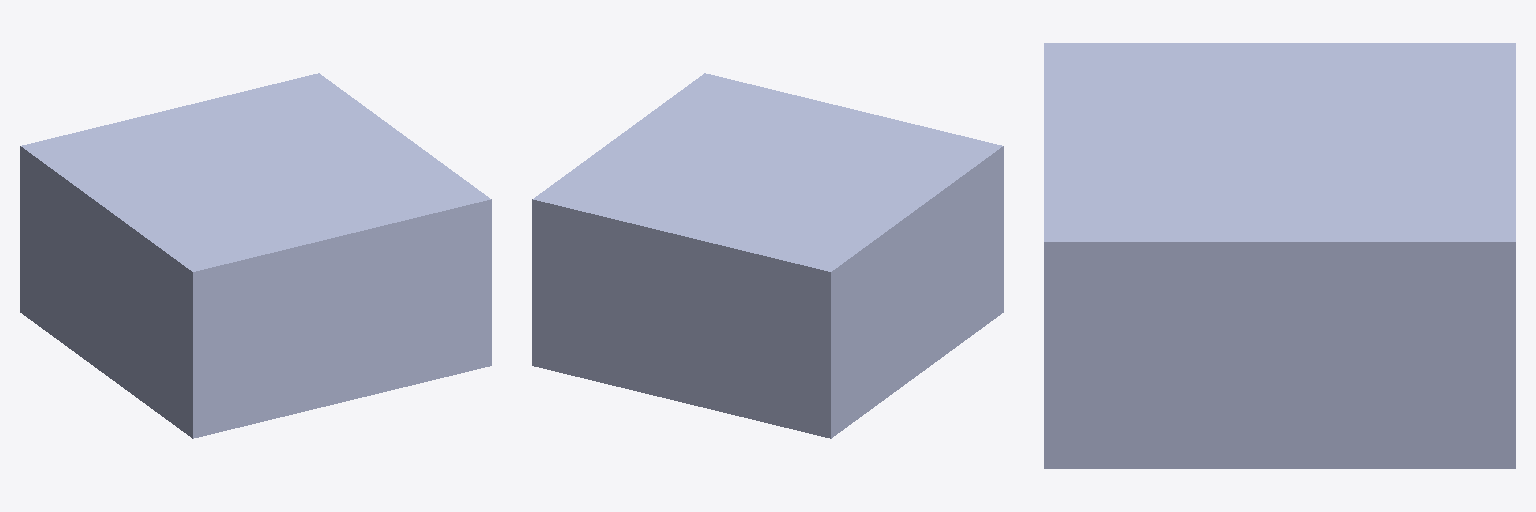
URDF robot description (FlameWheel_F450_block):
<?xml version="1.0" encoding="utf-8"?>
<!-- This URDF was automatically created by SolidWorks to URDF Exporter! Originally created by [author] ([email redacted]) 
     Commit Version: 1.5.1-0-g916b5db  Build Version: 1.5.7152.31018
     For more information, please see http://wiki.ros.org/sw_urdf_exporter -->
<robot
  name="FlameWheel_F450_block">
  <link
    name="base_link">
    <inertial>
      <origin
        xyz="6.3557E-19 -2.7105E-20 0"
        rpy="0 0 0" />
      <mass
        value="1.44E-05" />
      <inertia
        ixx="1.3872E-11"
        ixy="-4.7222E-28"
        ixz="-2.4678E-43"
        iyy="1.3872E-11"
        iyz="-3.9464E-44"
        izz="2.16E-11" />
    </inertial>
    <visual>
      <origin
        xyz="0 0 0"
        rpy="0 0 0" />
      <geometry>
        <mesh
          filename="package://FlameWheel_F450_block/meshes/base_link.STL" />
      </geometry>
      <material
        name="">
        <color
          rgba="0.79216 0.81961 0.93333 1" />
      </material>
    </visual>
    <collision>
      <origin
        xyz="0 0 0"
        rpy="0 0 0" />
      <geometry>
        <mesh
          filename="package://FlameWheel_F450_block/meshes/base_link.STL" />
      </geometry>
    </collision>
  </link>
  <link
    name="chasis_link">
    <inertial>
      <origin
        xyz="-1.6049E-05 0.00031379 0.012018"
        rpy="0 0 0" />
      <mass
        value="0.44728" />
      <inertia
        ixx="0.0007822"
        ixy="1.2698E-11"
        ixz="1.1558E-14"
        iyy="0.00098484"
        iyz="1.1391E-07"
        izz="0.0015565" />
    </inertial>
    <visual>
      <origin
        xyz="0 0 0"
        rpy="0 0 0" />
      <geometry>
        <mesh
          filename="package://FlameWheel_F450_block/meshes/chasis_link.STL" />
      </geometry>
      <material
        name="">
        <color
          rgba="0.79216 0.81961 0.93333 1" />
      </material>
    </visual>
    <collision>
      <origin
        xyz="0 0 0"
        rpy="0 0 0" />
      <geometry>
        <mesh
          filename="package://FlameWheel_F450_block/meshes/chasis_link.STL" />
      </geometry>
    </collision>
  </link>
  <joint
    name="joint_chasis"
    type="fixed">
    <origin
      xyz="0 0 0.0008"
      rpy="0 0 0" />
    <parent
      link="base_link" />
    <child
      link="chasis_link" />
    <axis
      xyz="0 0 0" />
  </joint>
  <link
    name="propeller_1_link">
    <inertial>
      <origin
        xyz="3.5799E-07 3.6139E-07 -0.00082037"
        rpy="0 0 0" />
      <mass
        value="0.00082772" />
      <inertia
        ixx="3.593E-07"
        ixy="-3.6419E-07"
        ixz="2.9799E-13"
        iyy="3.8272E-07"
        iyz="2.4963E-13"
        izz="7.3988E-07" />
    </inertial>
    <visual>
      <origin
        xyz="0 0 0"
        rpy="0 0 0" />
      <geometry>
        <mesh
          filename="package://FlameWheel_F450_block/meshes/propeller_1_link.STL" />
      </geometry>
      <material
        name="">
        <color
          rgba="0.1098 0.1098 0.1098 1" />
      </material>
    </visual>
    <collision>
      <origin
        xyz="0 0 0"
        rpy="0 0 0" />
      <geometry>
        <mesh
          filename="package://FlameWheel_F450_block/meshes/propeller_1_link.STL" />
      </geometry>
    </collision>
  </link>
  <joint
    name="joint_propeller_1"
    type="revolute">
    <origin
      xyz="0.15891 0.15872 0.062676"
      rpy="0 0 0.7854" />
    <parent
      link="chasis_link" />
    <child
      link="propeller_1_link" />
    <axis
      xyz="0 0 -1" />
    <limit
      lower="0"
      upper="0"
      effort="0"
      velocity="0" />
  </joint>
  <link
    name="propeller_2_link">
    <inertial>
      <origin
        xyz="-3.63379773493655E-07 3.64833703747625E-07 -0.000820365008767927"
        rpy="0 0 0" />
      <mass
        value="0.000827721182106375" />
      <inertia
        ixx="3.82722732347651E-07"
        ixy="3.64185600568519E-07"
        ixz="-2.37806595900958E-13"
        iyy="3.59296256863344E-07"
        iyz="2.68848157881329E-13"
        izz="7.39882465410675E-07" />
    </inertial>
    <visual>
      <origin
        xyz="0 0 0"
        rpy="0 0 0" />
      <geometry>
        <mesh
          filename="package://FlameWheel_F450_block/meshes/propeller_2_link.STL" />
      </geometry>
      <material
        name="">
        <color
          rgba="0.109803921568627 0.109803921568627 0.109803921568627 1" />
      </material>
    </visual>
    <collision>
      <origin
        xyz="0 0 0"
        rpy="0 0 0" />
      <geometry>
        <mesh
          filename="package://FlameWheel_F450_block/meshes/propeller_2_link.STL" />
      </geometry>
    </collision>
  </link>
  <joint
    name="joint_propeller_2"
    type="revolute">
    <origin
      xyz="0.1589 -0.15909 0.062676"
      rpy="0 0 -0.7854" />
    <parent
      link="chasis_link" />
    <child
      link="propeller_2_link" />
    <axis
      xyz="0 0 -1" />
    <limit
      lower="0"
      upper="0"
      effort="0"
      velocity="0" />
  </joint>
  <link
    name="propeller_3_link">
    <inertial>
      <origin
        xyz="3.59348555689643E-07 3.87399358259266E-07 -0.000820367506119246"
        rpy="0 0 0" />
      <mass
        value="0.000827722589736431" />
      <inertia
        ixx="3.59296291041373E-07"
        ixy="-3.64185676834099E-07"
        ixz="2.96727292541656E-13"
        iyy="3.82722801283459E-07"
        iyz="2.70904960417478E-13"
        izz="7.39882553724865E-07" />
    </inertial>
    <visual>
      <origin
        xyz="0 0 0"
        rpy="0 0 0" />
      <geometry>
        <mesh
          filename="package://FlameWheel_F450_block/meshes/propeller_1_link.STL" />
      </geometry>
      <material
        name="">
        <color
          rgba="0.109803921568627 0.109803921568627 0.109803921568627 1" />
      </material>
    </visual>
    <collision>
      <origin
        xyz="0 0 0"
        rpy="0 0 0" />
      <geometry>
        <mesh
          filename="package://FlameWheel_F450_block/meshes/propeller_1_link.STL" />
      </geometry>
    </collision>
  </link>
  <joint
    name="joint_propeller_3"
    type="revolute">
    <origin
      xyz="-0.15891 -0.15908 0.062676"
      rpy="0 0 0.7854" />
    <parent
      link="chasis_link" />
    <child
      link="propeller_3_link" />
    <axis
      xyz="0 0 -1" />
    <limit
      lower="0"
      upper="0"
      effort="0"
      velocity="0" />
  </joint>
  <link
    name="propeller_4_link">
    <inertial>
      <origin
        xyz="-3.69099850516807E-07 3.563222837899E-07 -0.000820368385214279"
        rpy="0 0 0" />
      <mass
        value="0.000827722463176095" />
      <inertia
        ixx="3.82722692178188E-07"
        ixy="3.6418565735908E-07"
        ixz="-2.4900304347919E-13"
        iyy="3.59296408726141E-07"
        iyz="2.7923777957287E-13"
        izz="7.39882566322064E-07" />
    </inertial>
    <visual>
      <origin
        xyz="0 0 0"
        rpy="0 0 0" />
      <geometry>
        <mesh
          filename="package://FlameWheel_F450_block/meshes/propeller_2_link.STL" />
      </geometry>
      <material
        name="">
        <color
          rgba="0.109803921568627 0.109803921568627 0.109803921568627 1" />
      </material>
    </visual>
    <collision>
      <origin
        xyz="0 0 0"
        rpy="0 0 0" />
      <geometry>
        <mesh
          filename="package://FlameWheel_F450_block/meshes/propeller_2_link.STL" />
      </geometry>
    </collision>
  </link>
  <joint
    name="joint_propeller_4"
    type="revolute">
    <origin
      xyz="-0.1589 0.15873 0.062676"
      rpy="0 0 -0.7854" />
    <parent
      link="chasis_link" />
    <child
      link="propeller_4_link" />
    <axis
      xyz="0 0 -1" />
    <limit
      lower="0"
      upper="0"
      effort="0"
      velocity="0" />
  </joint>
</robot>

--- What the picture shows (computed from the rendered views, not written in the file) ---
Views: 3 orthographic renders of the robot side by side, from view 1: azimuth 30°, elevation 25°; view 2: azimuth 150°, elevation 25°; view 3: azimuth 270°, elevation 25°.
Robot: FlameWheel_F450_block — 6 links, 5 joints (4 revolute, 1 fixed); root link base_link; default pose: every joint at zero.
Links seen in each view (by area): view 1: base_link; view 2: base_link; view 3: base_link.
Boxes of the visible links, x1=… form: base_link: x1=20, y1=73, x2=491, y2=438; base_link: x1=532, y1=73, x2=1003, y2=438; base_link: x1=1044, y1=43, x2=1515, y2=468.
Bounding box of the posed robot: 0.003 × 0.003 × 0.0016 m (x, y, z).
Meshes: 4 distinct files referenced, 1 mesh visuals loaded (1 binary STL); not drawn: 5 (reference not matched to a file when rendering).